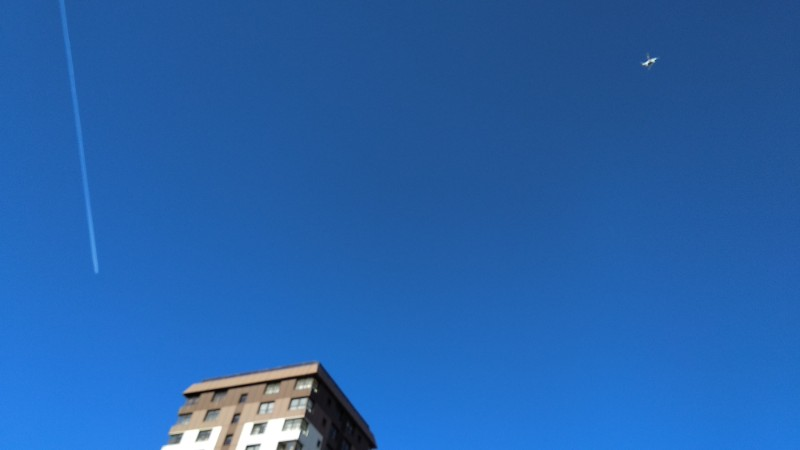drone: (640, 51, 659, 69)
